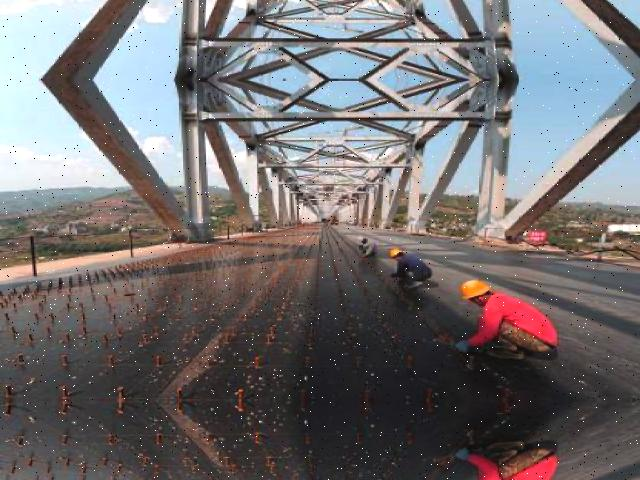Helmet: (459, 276, 498, 302), (390, 244, 407, 257)
